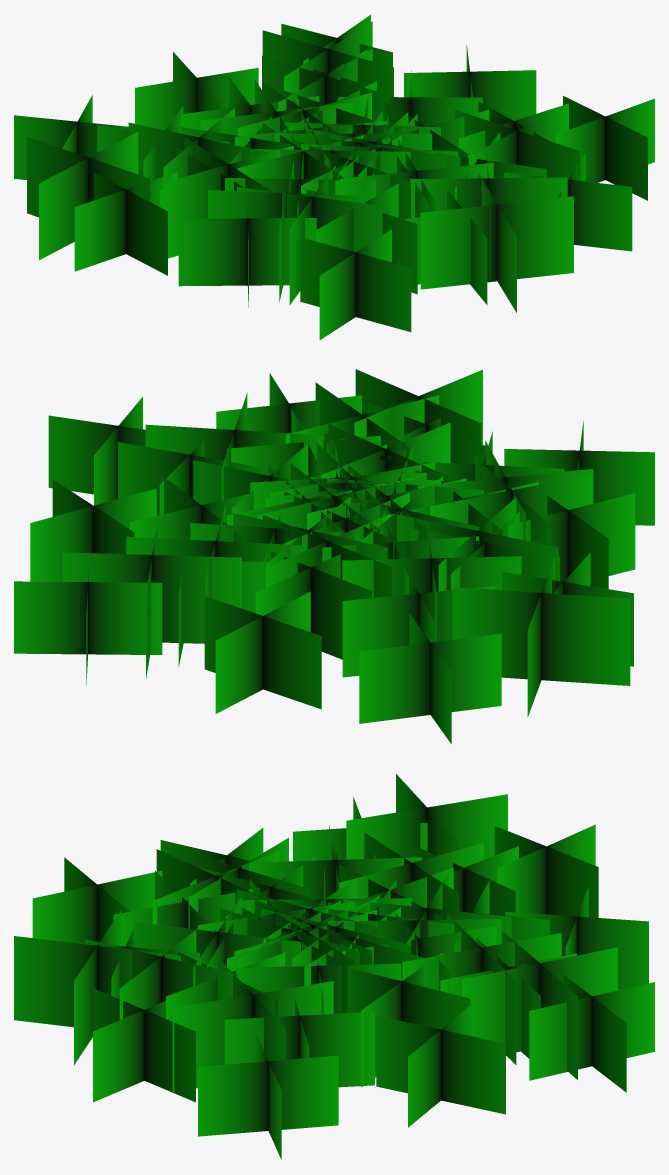
File: Grass_1.fbx
The picture shows the model from 3 angles, top to bottom: view 1: azimuth 30°, elevation 25°; view 2: azimuth 150°, elevation 25°; view 3: azimuth 270°, elevation 25°; orthographic projection. The views are drawn at different scales.
Visible parts, largest first — view 1: Grass_1; view 2: Grass_1; view 3: Grass_1.
Part boxes in pixels (left/top/right/bottom): Grass_1: left=14, top=14, right=654, bottom=339; Grass_1: left=14, top=369, right=654, bottom=743; Grass_1: left=14, top=774, right=654, bottom=1159.
Bounding box in the file's own units: 1161 × 153 × 1042.
